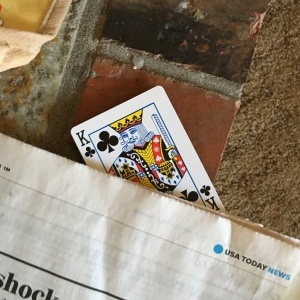card: (71, 85, 229, 215)
